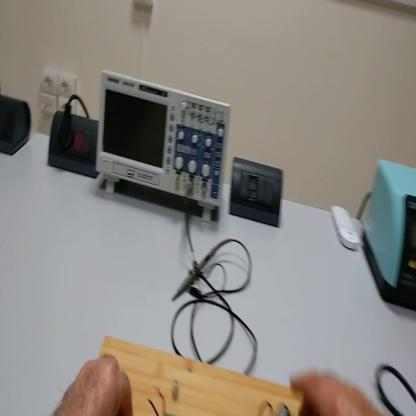hand: (56, 359, 134, 416), (290, 370, 384, 415)
oscilloscope: (96, 68, 236, 226)
oscilloscope probe tip: (174, 242, 225, 301)
socket: (46, 111, 101, 179), (2, 98, 32, 157)
welder station: (364, 154, 416, 313)
working area: (101, 336, 306, 415)
